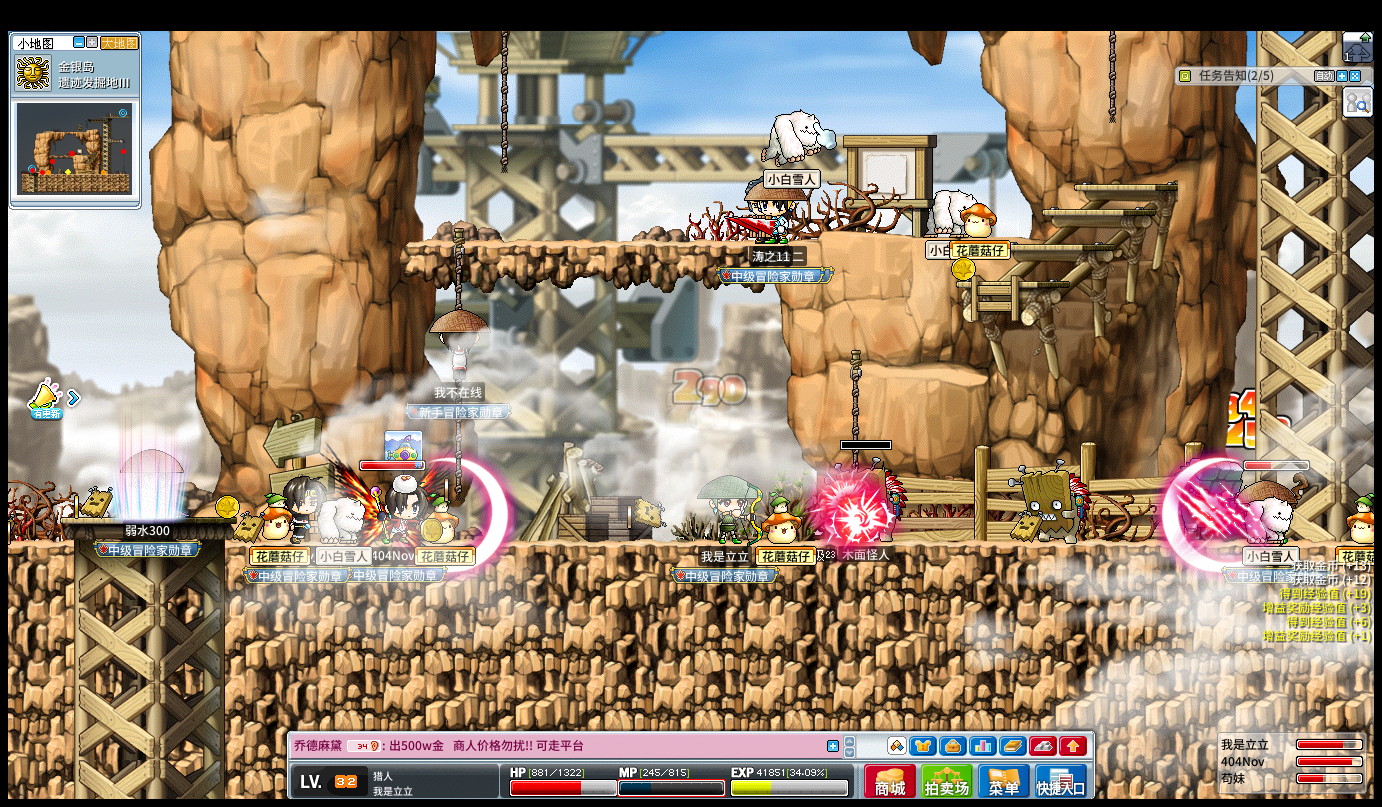floor: (403, 238, 777, 249), (879, 364, 989, 383), (62, 517, 238, 525), (62, 515, 238, 523), (890, 232, 1034, 241), (950, 279, 1067, 288), (1040, 207, 1152, 214), (1000, 243, 1110, 250), (7, 538, 71, 550), (1073, 184, 1176, 191)
monster: (1013, 460, 1091, 544)
rope: (499, 29, 509, 169), (498, 29, 506, 169), (451, 228, 464, 310), (849, 348, 860, 437), (1106, 29, 1116, 121)
